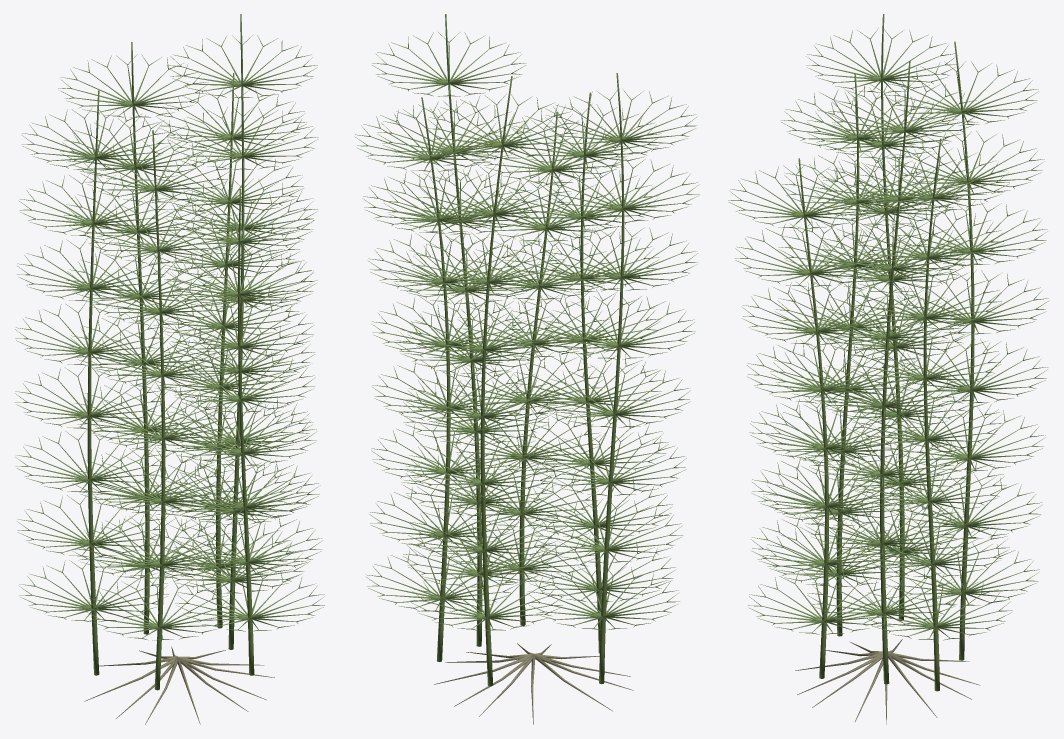
The model's file is limno-mobile.glb.
The picture shows the model from 3 angles, left to right: view 1: azimuth 30°, elevation 25°; view 2: azimuth 150°, elevation 25°; view 3: azimuth 270°, elevation 25°; orthographic projection. The views are drawn at different scales.
Visible parts, largest first — view 1: dissected-leaf-ray, pinnule, branching-stem, anchoring-root; view 2: dissected-leaf-ray, pinnule, branching-stem, anchoring-root; view 3: dissected-leaf-ray, pinnule, branching-stem, anchoring-root.
Boxes of the visible parts, x1,y1,x2,y2 form: dissected-leaf-ray: (28,45,311,638); pinnule: (15,35,324,640); branching-stem: (87,14,254,690); anchoring-root: (84,646,274,724); dissected-leaf-ray: (369,42,685,629); pinnule: (354,32,699,630); branching-stem: (421,14,624,686); anchoring-root: (434,643,633,724); dissected-leaf-ray: (742,39,1034,638); pinnule: (728,28,1049,640); branching-stem: (798,14,974,691); anchoring-root: (795,639,980,724).
Bounding box in the file's own units: 0.4415 × 0.9243 × 0.4099.
